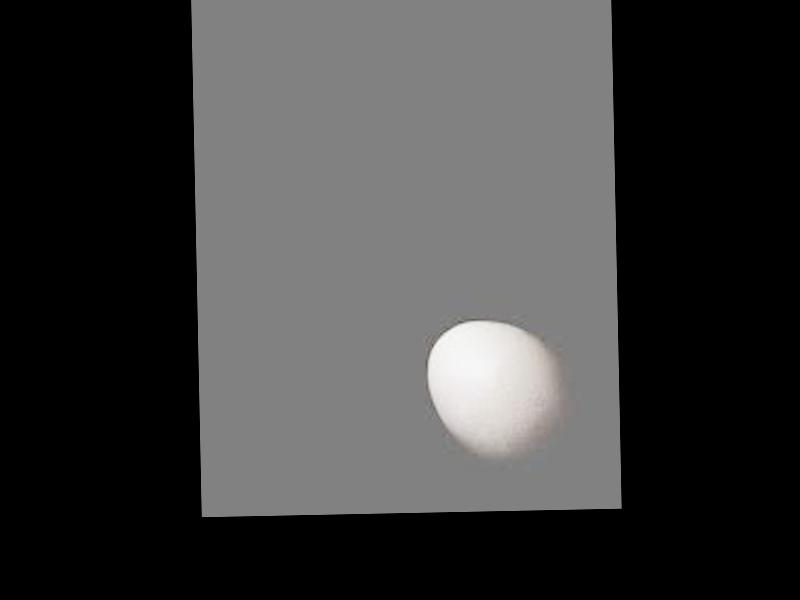Eggs: (425, 319, 566, 465)
